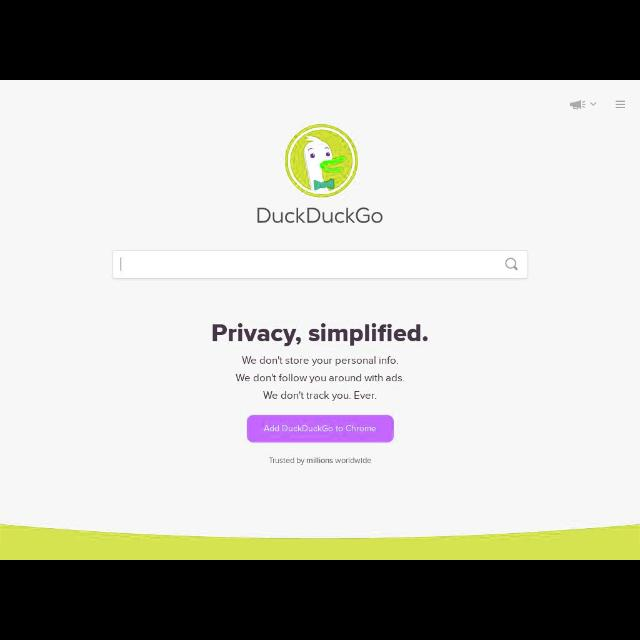icon: (570, 100, 586, 110), (506, 258, 518, 270), (616, 100, 626, 110), (590, 102, 596, 106)
image: (284, 124, 360, 198)
input: (112, 252, 528, 278)
text: (212, 323, 428, 347), (257, 208, 383, 224), (237, 374, 406, 384), (242, 356, 398, 366), (264, 391, 376, 401), (264, 424, 376, 432), (269, 457, 371, 465)
textbutton: (248, 416, 394, 442)
toolbar: (1, 82, 639, 120)
